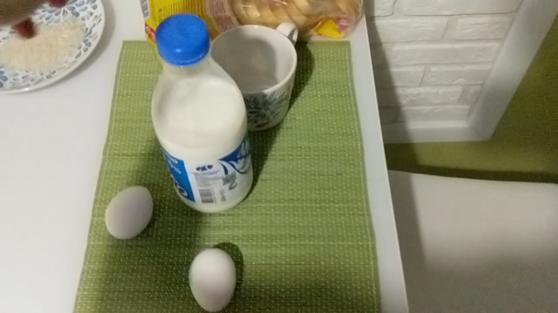egg: (179, 247, 246, 313), (103, 181, 154, 245)
milk: (137, 10, 266, 219)
